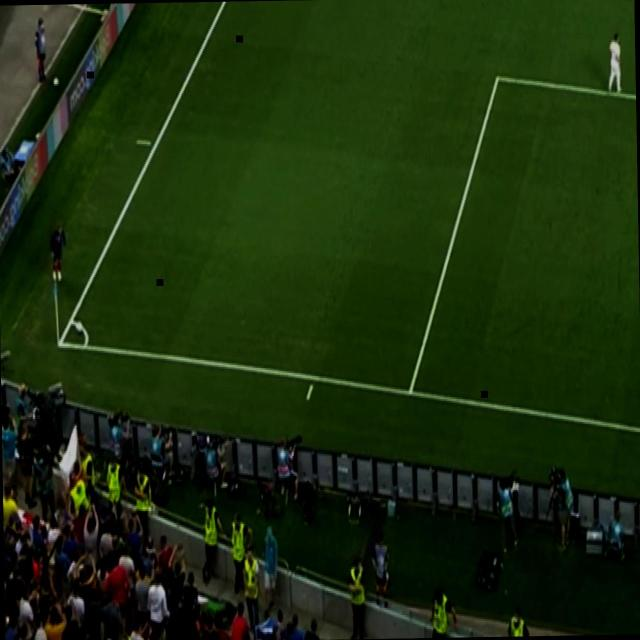ball: (75, 320, 83, 334), (51, 76, 60, 88)
player-white: (48, 220, 68, 284), (606, 33, 624, 96)
